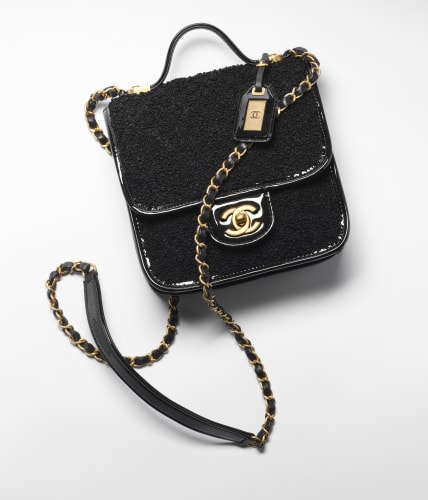channel: (89, 55, 395, 320), (45, 252, 102, 369), (203, 197, 279, 248), (280, 76, 328, 112)
